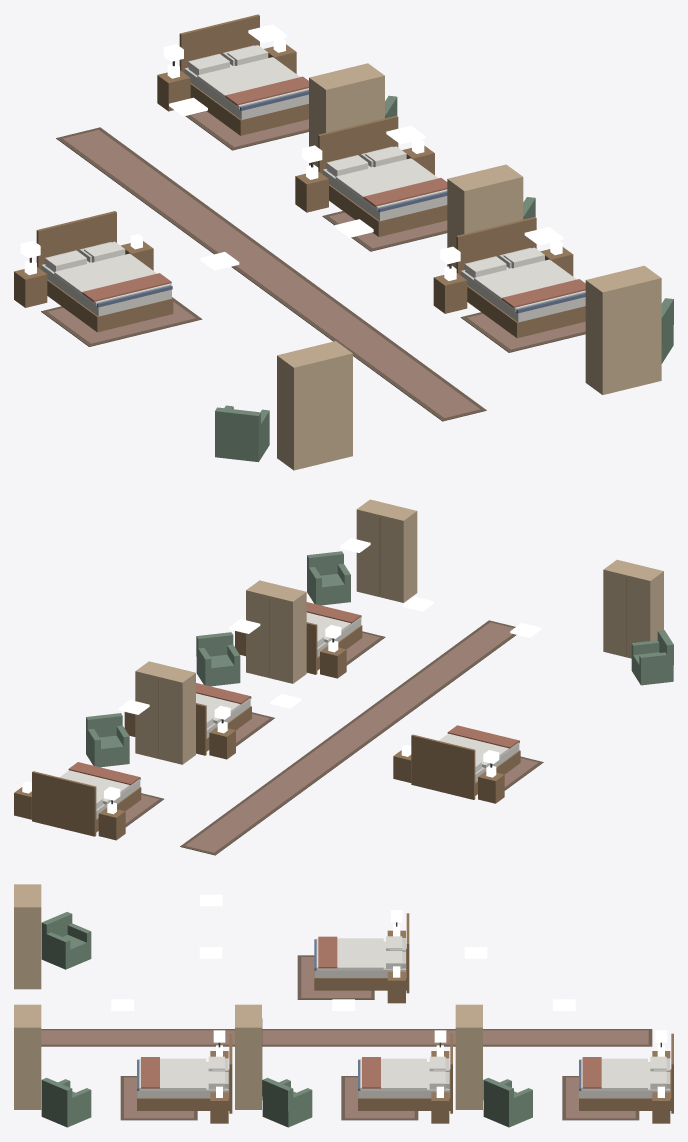
The model's file is fine-s2.glb.
The picture shows the model from 3 angles, top to bottom: view 1: azimuth 30°, elevation 25°; view 2: azimuth 150°, elevation 25°; view 3: azimuth 270°, elevation 25°; orthographic projection. The views are drawn at different scales.
Parts seen in each view (by area): view 1: soft-s2, dresser.007, dresser.004, bed-frame.004, bed-frame.007, bed-frame.006, bed-frame.005, dresser.006, dresser.005, lounge-chair.004, nightstand.014, nightstand.008 (+3 smaller); view 2: soft-s2, dresser.007, dresser.006, dresser.005, dresser.004, bed-frame.005, bed-frame.004, lounge-chair.006, lounge-chair.005, lounge-chair.007, lounge-chair.004, bed-frame.007 (+7 smaller); view 3: soft-s2, dresser.004, dresser.005, dresser.007, dresser.006, lounge-chair.004, bed-frame.004, bed-frame.007, bed-frame.006, bed-frame.005, lounge-chair.007, lounge-chair.006 (+5 smaller).
Part boxes in pixels (x1,y1,x2,y2): soft-s2: [20, 44, 585, 421]; dresser.007: [585, 265, 661, 394]; dresser.004: [277, 341, 352, 470]; bed-frame.004: [36, 211, 173, 332]; bed-frame.007: [456, 217, 585, 338]; bed-frame.006: [318, 115, 447, 236]; bed-frame.005: [179, 14, 308, 135]; dresser.006: [447, 164, 523, 268]; dresser.005: [309, 63, 384, 166]; lounge-chair.004: [215, 405, 269, 462]; nightstand.014: [433, 266, 467, 313]; nightstand.008: [14, 260, 47, 307]; soft-s2: [60, 602, 543, 855]; dresser.007: [356, 499, 417, 602]; dresser.006: [246, 580, 306, 683]; dresser.005: [135, 661, 195, 764]; dresser.004: [603, 559, 663, 658]; bed-frame.005: [32, 771, 141, 836]; bed-frame.004: [411, 734, 520, 799]; lounge-chair.006: [196, 632, 240, 686]; lounge-chair.005: [86, 713, 129, 767]; lounge-chair.007: [307, 551, 350, 605]; lounge-chair.004: [631, 630, 673, 685]; bed-frame.007: [306, 615, 362, 674]; soft-s2: [41, 910, 668, 1120]; dresser.004: [14, 884, 41, 989]; dresser.005: [455, 1004, 482, 1109]; dresser.007: [14, 1004, 41, 1109]; dresser.006: [235, 1004, 262, 1109]; lounge-chair.004: [41, 912, 91, 969]; bed-frame.004: [314, 913, 409, 993]; bed-frame.007: [137, 1033, 232, 1113]; bed-frame.006: [358, 1033, 452, 1113]; bed-frame.005: [579, 1033, 673, 1113]; lounge-chair.007: [41, 1077, 91, 1127]; lounge-chair.006: [262, 1077, 312, 1127].
Bounding box in the file's own units: 9.35 × 2.11 × 14.57.
